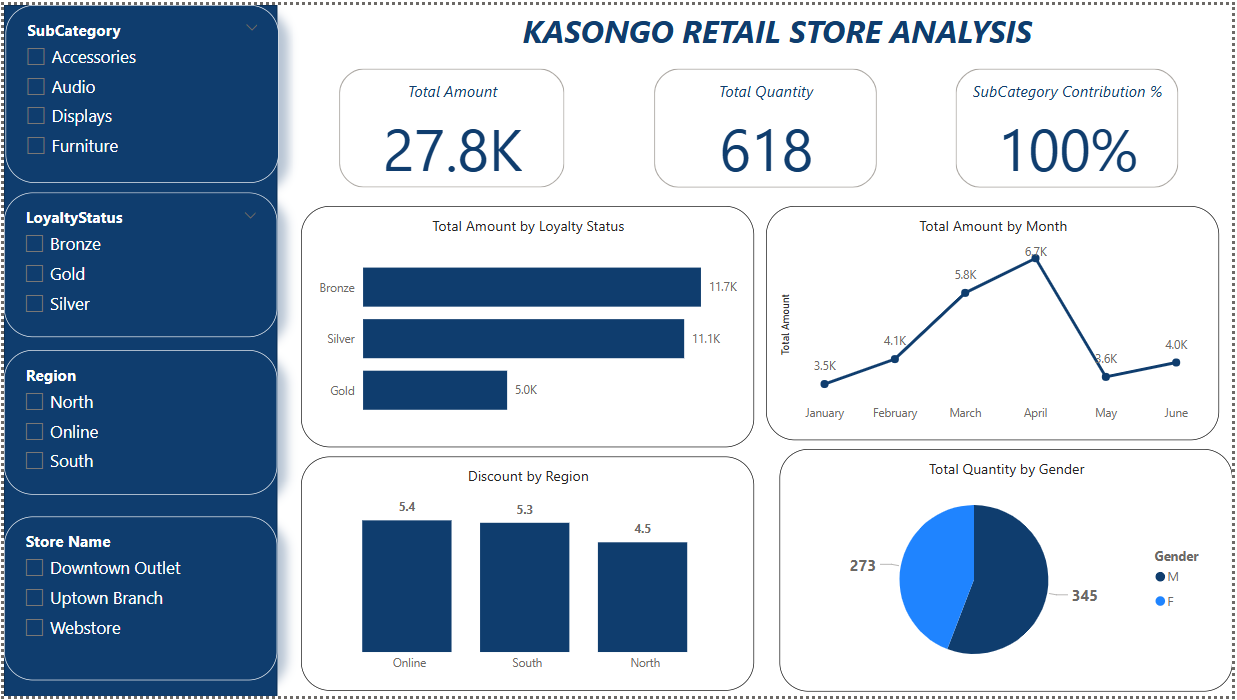

The dashboard page shown, as its layout file describes it:
{"tool":"powerbi","page":{"name":"Page 1","canvas":[1280,720],"ordinal":0},"visuals":[{"type":"cardVisual","fields":{"Data":["FactSales.Total Amount"]},"box":[343.4,61.4,245.5,134.5],"z":0},{"type":"cardVisual","fields":{"Data":["FactSales.Total Quantity"]},"box":[672.3,61.4,242.6,134.5],"z":1000},{"type":"lineChart","title":"Total Amount by Month","fields":{"Y":["FactSales.Total Amount"],"Category":["DimDate.MonthName"]},"box":[793.6,209,472.1,244.1],"z":3000},{"type":"shape","box":[0,0,285,720.5],"z":4000},{"type":"textbox","box":[329,0,951.3,61],"z":5000},{"type":"slicer","fields":{"Values":["DimStore.StoreName"]},"box":[0,533.4,285,171],"z":6000},{"type":"slicer","fields":{"Values":["DimCustomer.LoyaltyStatus"]},"box":[0,195.8,285,150.5],"z":7000},{"type":"clusteredBarChart","title":"Total Amount by Loyalty Status","fields":{"Category":["DimCustomer.LoyaltyStatus"],"Y":["FactSales.Total Amount"]},"box":[309.8,209,472.1,251.4],"z":10000},{"type":"cardVisual","fields":{"Data":["FactSales.Stockout Rate"]},"box":[986.5,61.4,242.6,134.5],"z":11000},{"type":"slicer","fields":{"Values":["DimStore.Region"]},"box":[0,359.5,285,150.5],"z":11001},{"type":"slicer","fields":{"Values":["DimProduct.SubCategory"]},"box":[1.5,0,285,185.6],"z":11002},{"type":"pieChart","fields":{"Category":["DimCustomer.Gender"],"Y":["FactSales.Total Quantity"]},"box":[808.2,461.8,472.1,252.8],"z":11003},{"type":"clusteredColumnChart","title":"Discount by Region","fields":{"Category":["DimStore.Region"],"Y":["Sum(FactSales.Discount)"]},"box":[309.8,470.6,472.1,244.1],"z":11004}]}

Visuals, with their boxes in screenshot pixels (x1, y1, x2, y2), scaled from the page's 1280x720 canvas onto the 1237x700 screenshot:
cardVisual - FactSales.Total Amount: {"x1": 332, "y1": 60, "x2": 569, "y2": 190}
cardVisual - FactSales.Total Quantity: {"x1": 650, "y1": 60, "x2": 884, "y2": 190}
"Total Amount by Month" lineChart: {"x1": 767, "y1": 203, "x2": 1223, "y2": 441}
shape: {"x1": 0, "y1": 0, "x2": 275, "y2": 699}
textbox: {"x1": 318, "y1": 0, "x2": 1236, "y2": 59}
slicer - DimStore.StoreName: {"x1": 0, "y1": 519, "x2": 275, "y2": 685}
slicer - DimCustomer.LoyaltyStatus: {"x1": 0, "y1": 190, "x2": 275, "y2": 337}
"Total Amount by Loyalty Status" clusteredBarChart: {"x1": 299, "y1": 203, "x2": 756, "y2": 448}
cardVisual - FactSales.Stockout Rate: {"x1": 953, "y1": 60, "x2": 1188, "y2": 190}
slicer - DimStore.Region: {"x1": 0, "y1": 350, "x2": 275, "y2": 496}
slicer - DimProduct.SubCategory: {"x1": 1, "y1": 0, "x2": 277, "y2": 180}
pieChart - DimCustomer.Gender x FactSales.Total Quantity: {"x1": 781, "y1": 449, "x2": 1236, "y2": 695}
"Discount by Region" clusteredColumnChart: {"x1": 299, "y1": 458, "x2": 756, "y2": 695}
